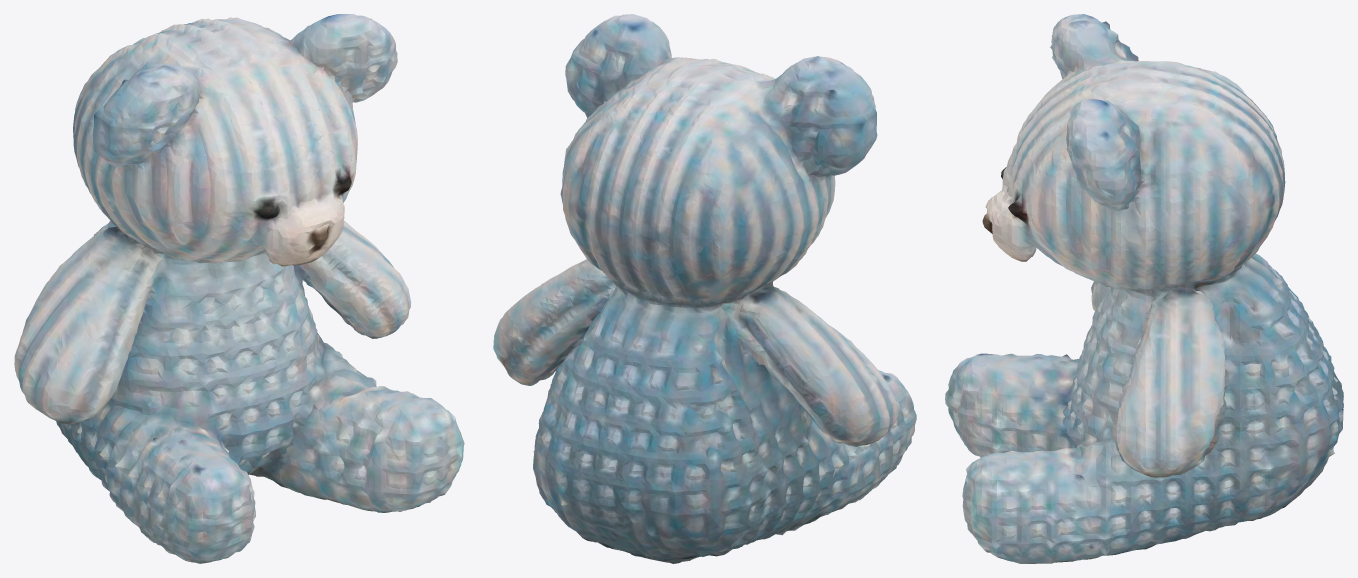
The model's file is sample-bear.glb.
3 views of the same model, side by side, from view 1: azimuth 30°, elevation 25°; view 2: azimuth 150°, elevation 25°; view 3: azimuth 270°, elevation 25° (orthographic). The views are drawn at different scales.
Parts seen in each view (by area): view 1: ReBear — TripoSR; view 2: ReBear — TripoSR; view 3: ReBear — TripoSR.
Part boxes in pixels (x1,y1,x2,y2): ReBear — TripoSR: [14, 14, 464, 563]; ReBear — TripoSR: [493, 14, 916, 563]; ReBear — TripoSR: [945, 14, 1343, 563].
Size of the model in its own units: 1.37 by 1.6 by 1.28.
1 material, 1 textured.
